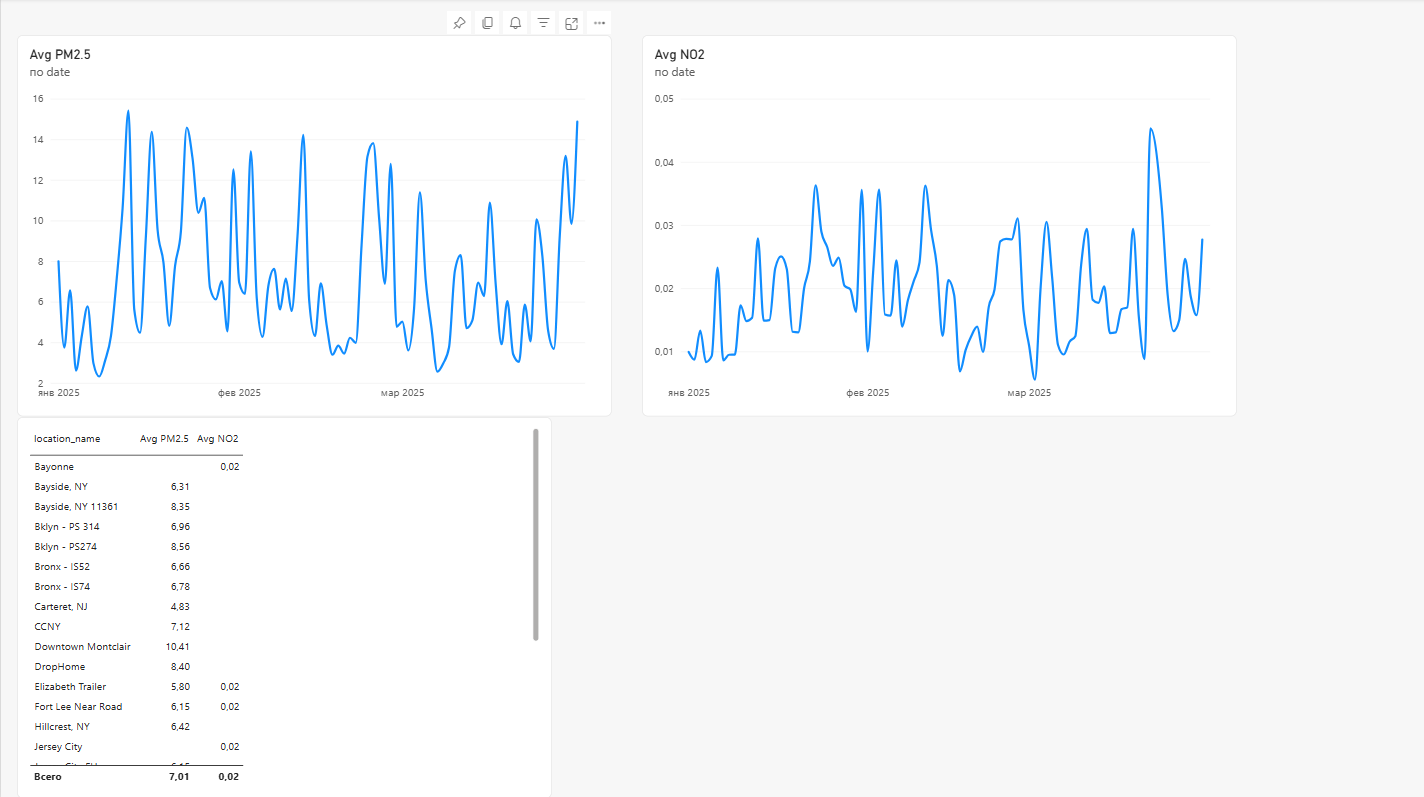

The dashboard page shown, as its layout file describes it:
{"tool":"powerbi","page":{"name":"Air Quality","canvas":[1920,1080],"ordinal":1},"visuals":[{"type":"lineChart","fields":{"Category":["dim_date.date.Variation.Date Hierarchy.Year"],"Y":["fact_taxi_daily.Avg PM2.5"]},"box":[21.3,50.5,803.4,514.7],"z":0},{"type":"tableEx","fields":{"Values":["dim_air_location.location_name","fact_taxi_daily.Avg PM2.5","fact_taxi_daily.Avg NO2"]},"box":[21.3,565.3,721.7,514.7],"z":1},{"type":"lineChart","fields":{"Category":["dim_date.date.Variation.Date Hierarchy.Year"],"Y":["fact_taxi_daily.Avg NO2"]},"box":[865.9,50.5,803.4,514.7],"z":2}]}

Visuals, with their boxes on the page's 1920x1080 design canvas (x1, y1, x2, y2). These are canvas units, not pixel positions in the 1424x797 screenshot, which may show the page scaled, cropped or inside an application window:
lineChart - dim_date.date.Variation.Date Hierarchy.Year x fact_taxi_daily.Avg PM2.5: BBox(21, 50, 825, 565)
tableEx - dim_air_location.location_name x fact_taxi_daily.Avg PM2.5: BBox(21, 565, 743, 1080)
lineChart - dim_date.date.Variation.Date Hierarchy.Year x fact_taxi_daily.Avg NO2: BBox(866, 50, 1669, 565)
